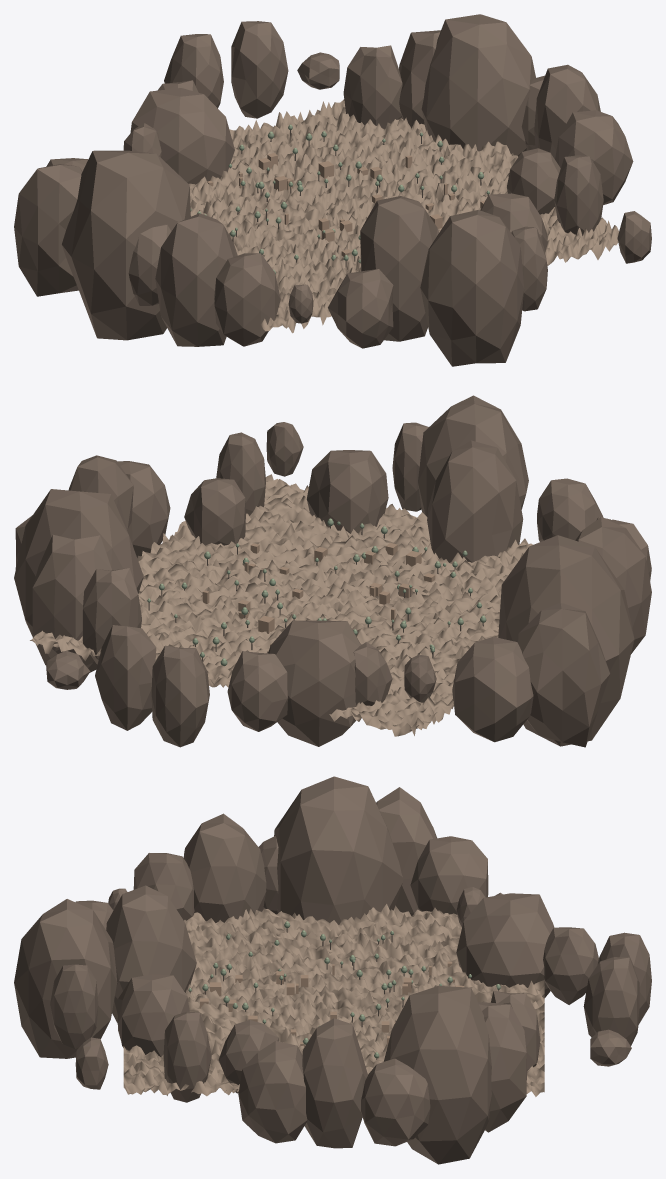
Rendered from valorant.gltf.
The picture shows the model from 3 angles, top to bottom: view 1: azimuth 30°, elevation 25°; view 2: azimuth 150°, elevation 25°; view 3: azimuth 270°, elevation 25°; orthographic projection. The views are drawn at different scales.
Bounding box in the file's own units: 364 × 113 × 364.
